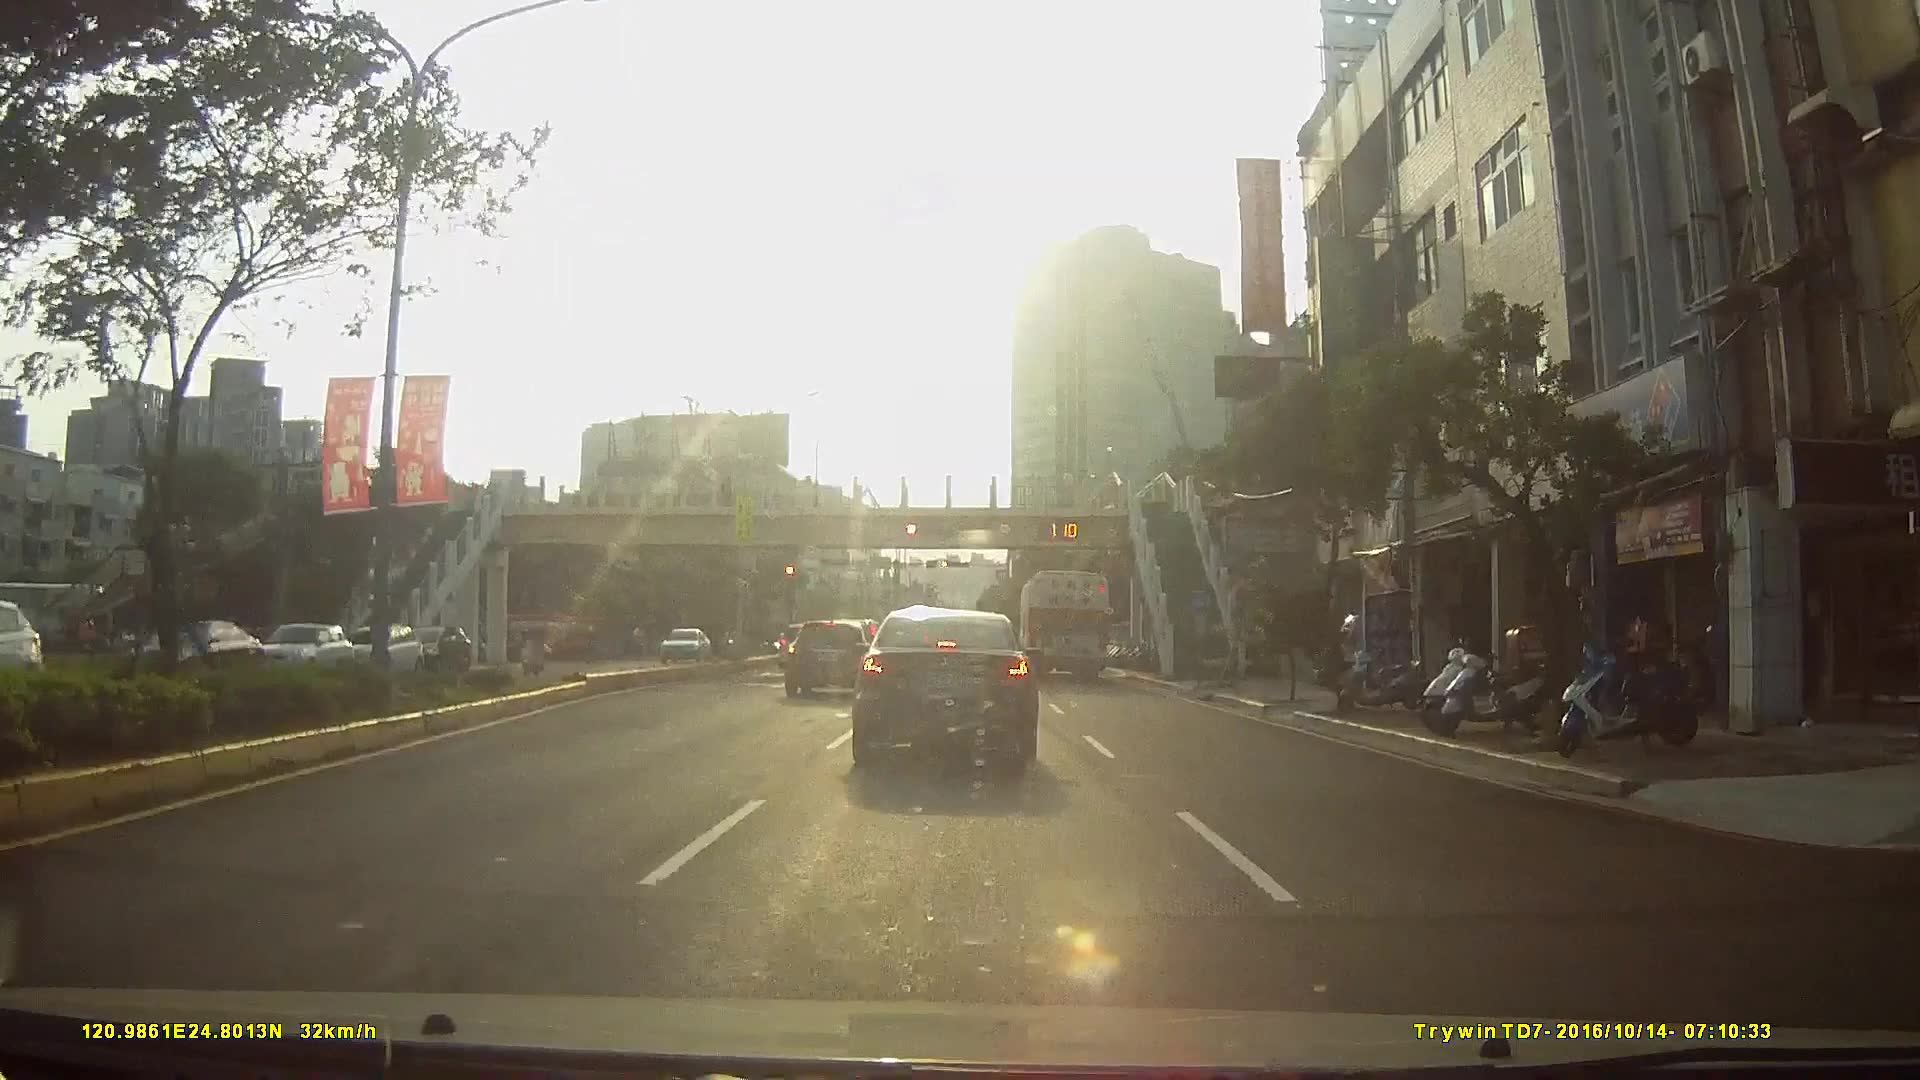rider: (518, 623, 548, 679)
vehicle: (850, 605, 1042, 765), (1018, 568, 1115, 682), (127, 619, 260, 691), (781, 616, 875, 700), (254, 622, 352, 677), (337, 624, 423, 675), (402, 623, 472, 671), (653, 625, 709, 665)
